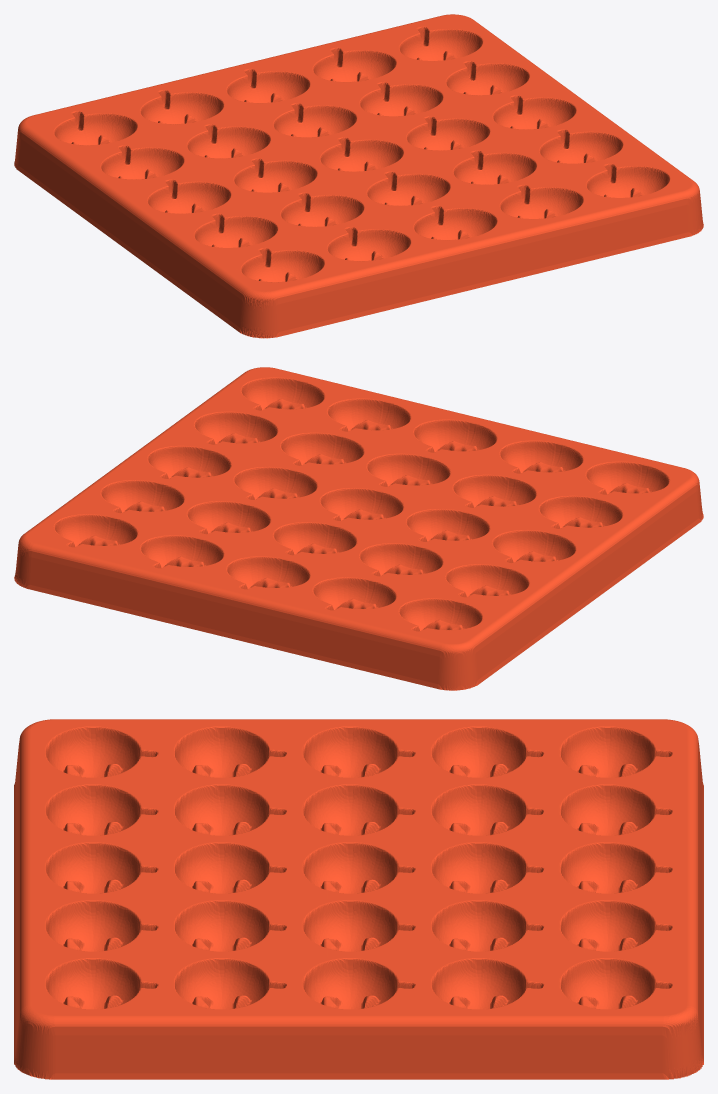
The model's file is mold.glb.
3 renders of one model, top to bottom at view 1: azimuth 30°, elevation 25°; view 2: azimuth 150°, elevation 25°; view 3: azimuth 270°, elevation 25°, orthographic. The views are drawn at different scales.
Parts seen in each view (by area): view 1: geometry_0; view 2: geometry_0; view 3: geometry_0.
Boxes of the visible parts, bbox=[...] form: geometry_0: bbox=[14, 14, 703, 338]; geometry_0: bbox=[14, 367, 703, 690]; geometry_0: bbox=[14, 719, 703, 1079].
Size of the model in its own units: 0.1584 by 0.0136 by 0.1493.
